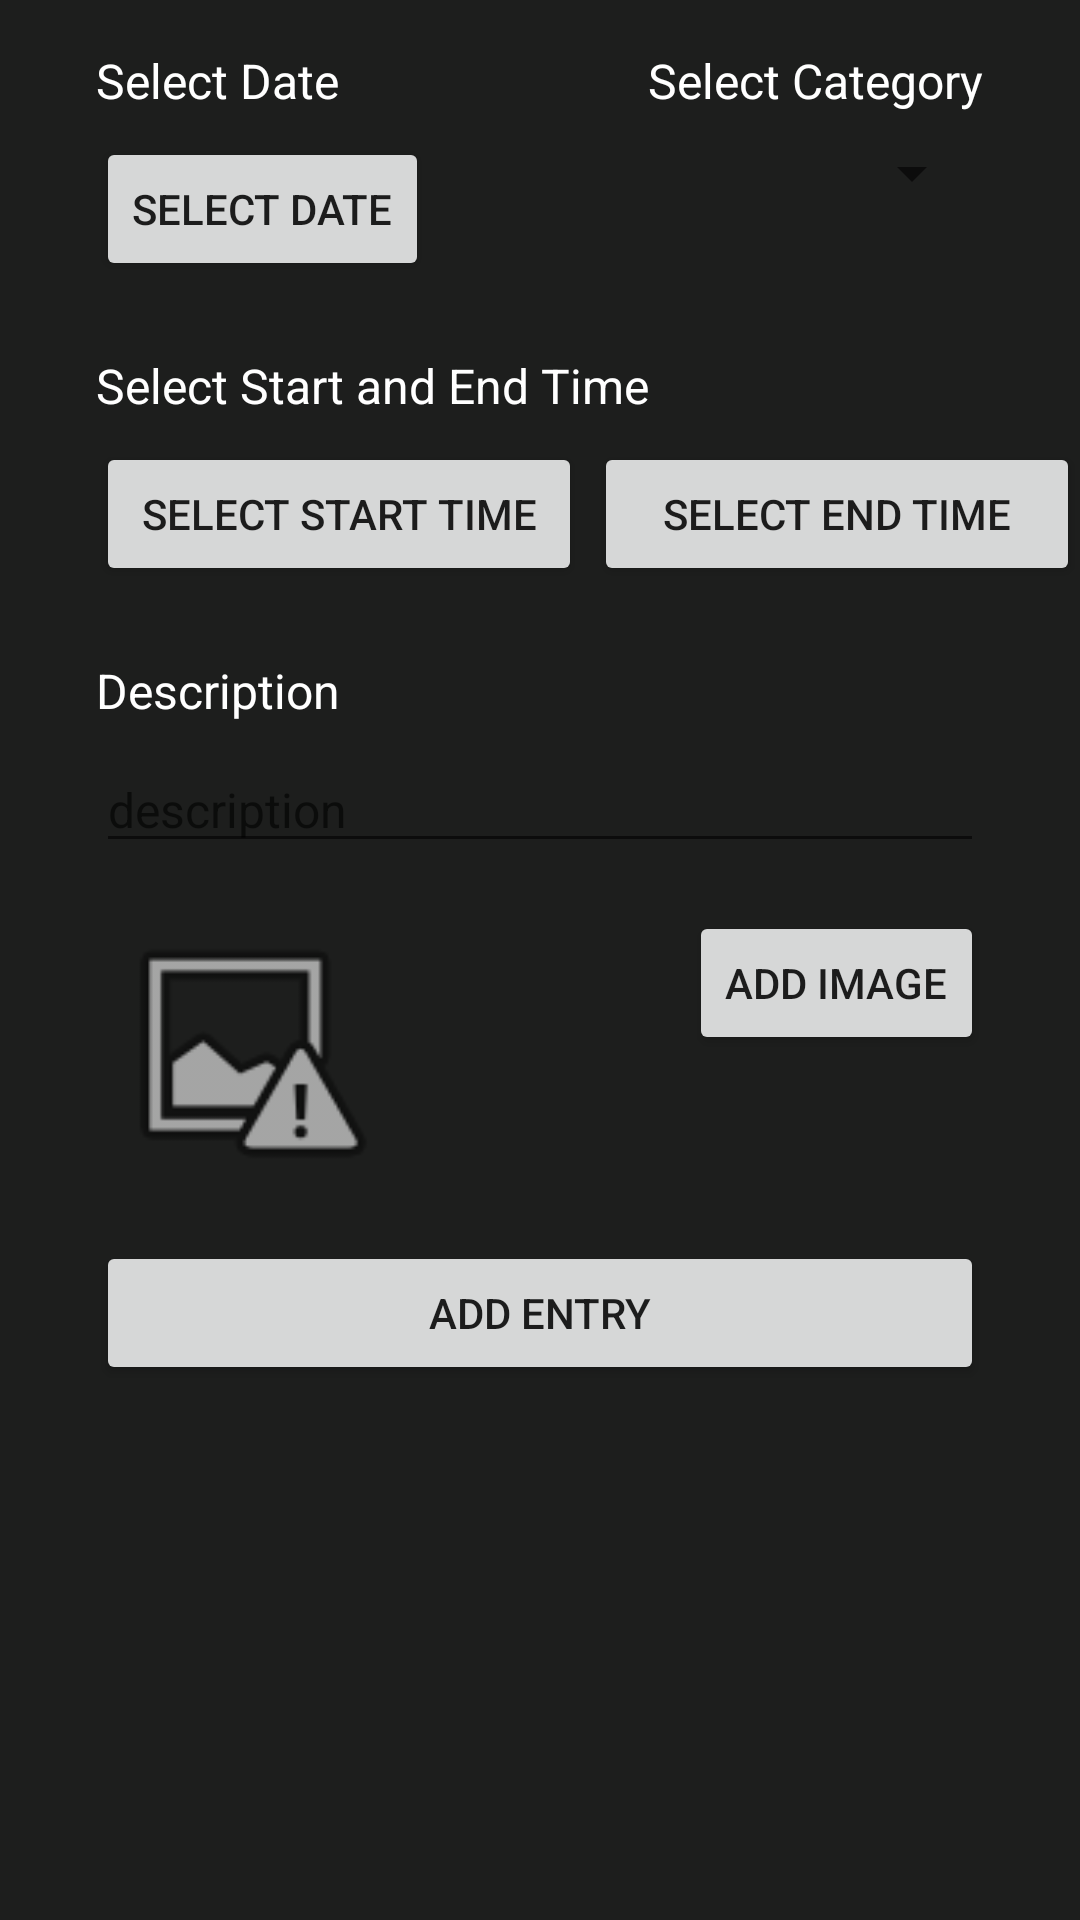

Icons on this 1080px x 1920px Android screen, each with the point to tap as (x,y):
report: (253,1053)
